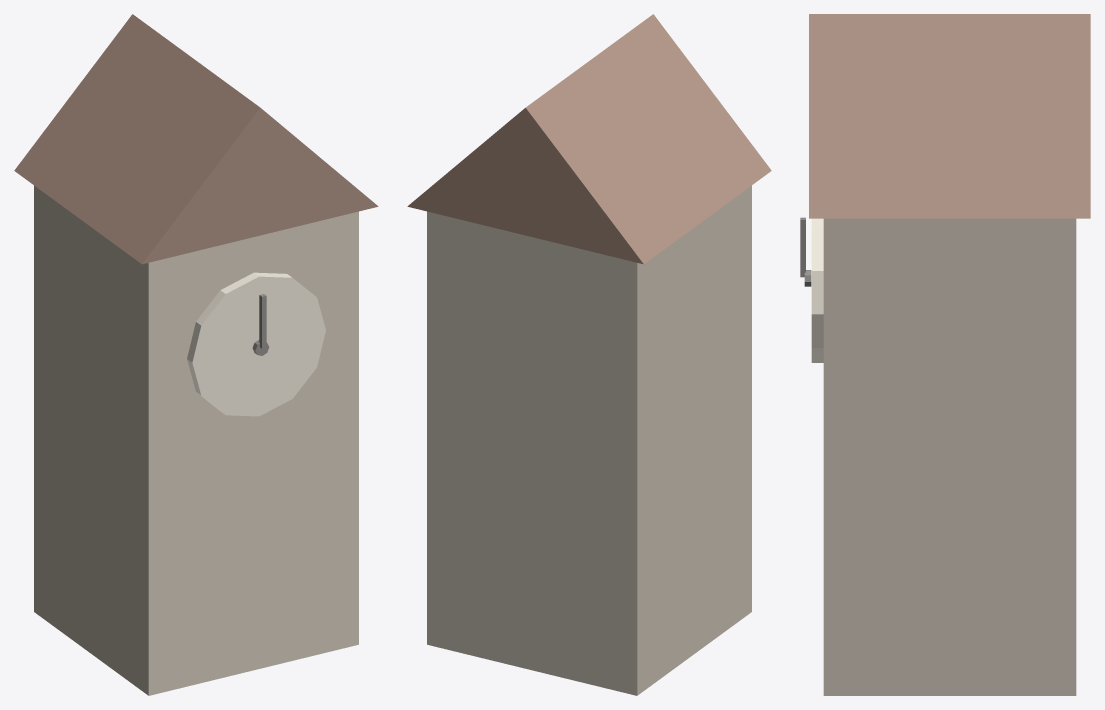
The model's file is ski_village_clock_far-DEWGjtDK.glb.
3 views of the same model, side by side, from view 1: azimuth 30°, elevation 25°; view 2: azimuth 150°, elevation 25°; view 3: azimuth 270°, elevation 25° (orthographic). The views are drawn at different scales.
Visible parts, largest first — view 1: ski_village_clock_far; view 2: ski_village_clock_far; view 3: ski_village_clock_far.
Boxes of the visible parts, <box> form: ski_village_clock_far: <box>14,14,378,695</box>; ski_village_clock_far: <box>407,14,771,695</box>; ski_village_clock_far: <box>800,14,1090,695</box>.
Bounding box in the file's own units: 6.2 × 14.2 × 5.98.
